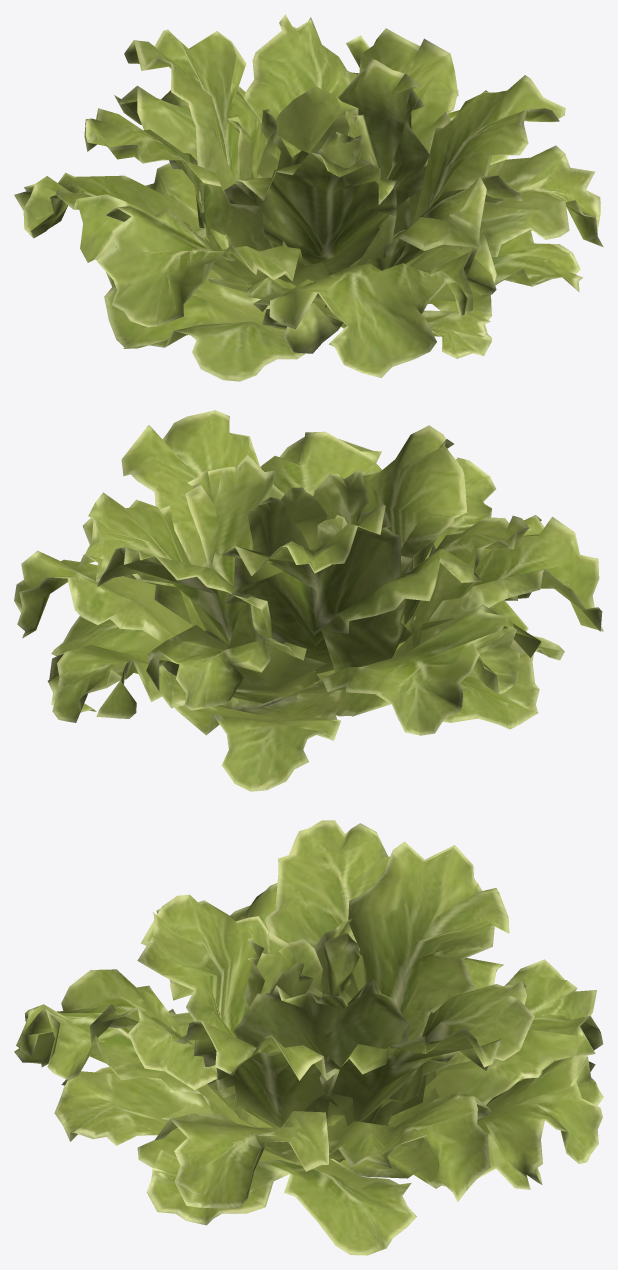
The model's file is crop_lettuce_3.glb.
3 views of the same model, one above another, from view 1: azimuth 30°, elevation 25°; view 2: azimuth 150°, elevation 25°; view 3: azimuth 270°, elevation 25° (orthographic).
Parts seen in each view (by area): view 1: crop_lettuce_3; view 2: crop_lettuce_3; view 3: crop_lettuce_3.
Part boxes in pixels (left/top/right/bottom): crop_lettuce_3: left=14, top=14, right=603, bottom=381; crop_lettuce_3: left=14, top=410, right=603, bottom=791; crop_lettuce_3: left=14, top=820, right=603, bottom=1255.
Bounding box in the file's own units: 0.9009 × 0.4288 × 0.92.
1 material, 1 textured.
